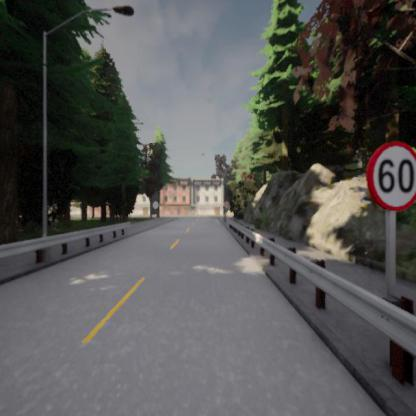traffic_sign_60: (366, 140, 415, 213)
